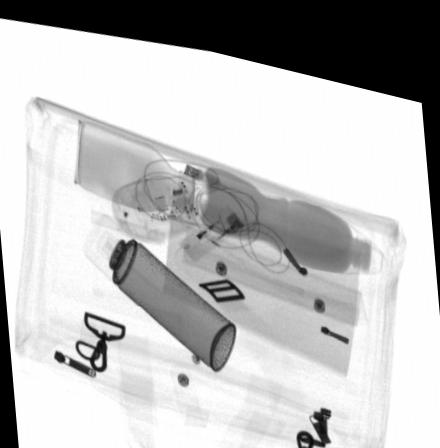Lighter: (179, 192, 245, 255)
Sprayer: (84, 208, 237, 362)
